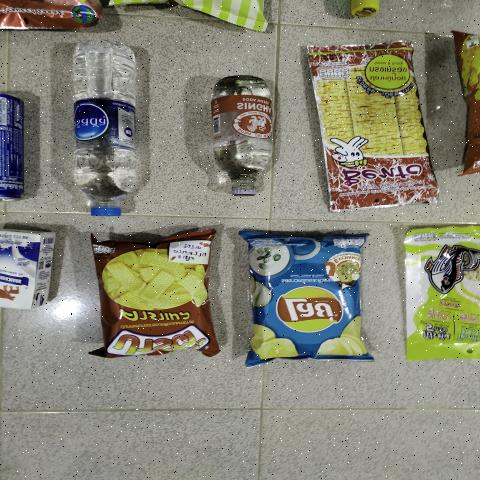bento_red: (321, 42, 422, 210)
crystal: (78, 42, 133, 223)
lay_blue: (252, 238, 361, 362)
party_red: (107, 246, 213, 352)
singha_soda: (209, 75, 278, 199)
thai_denmark: (0, 227, 60, 312)
